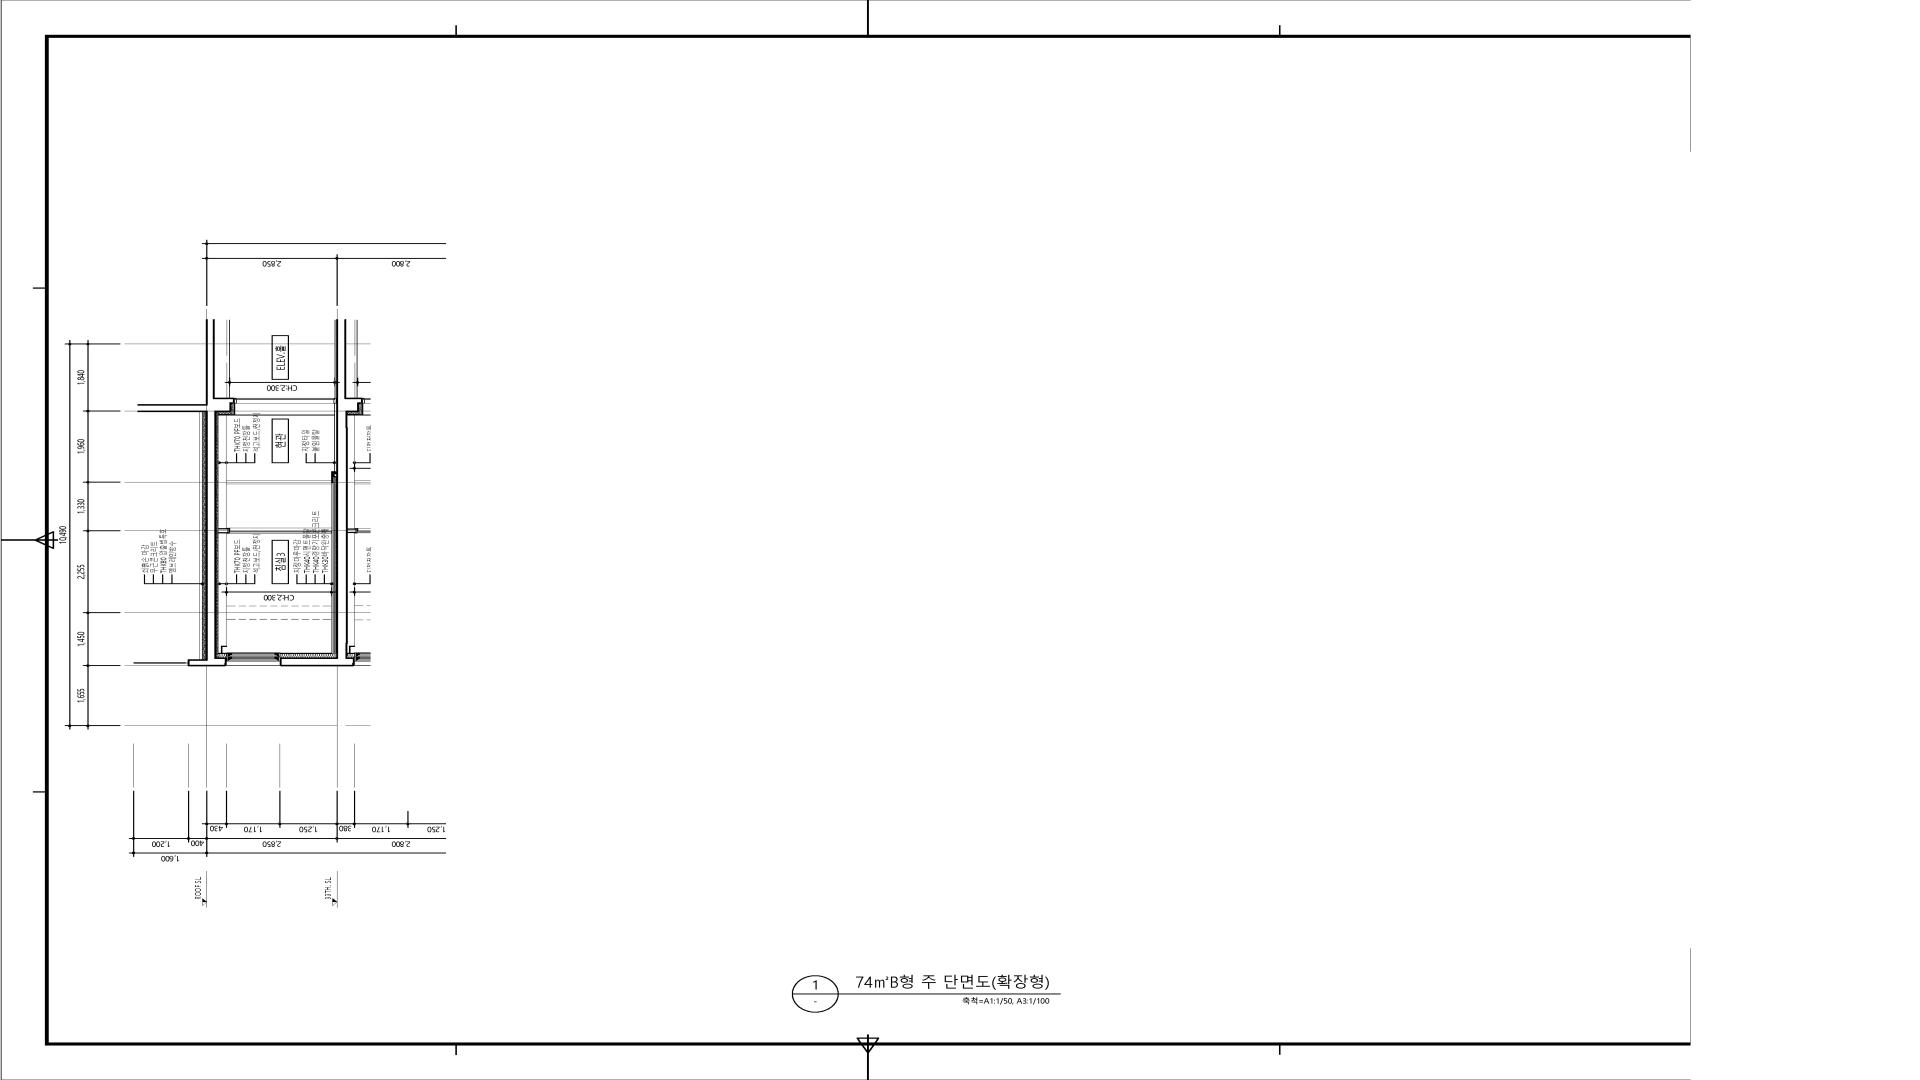background: (0, 0, 1920, 1080)
door: (227, 527, 331, 534), (235, 398, 336, 404)
wall: (281, 319, 348, 666), (206, 319, 235, 666), (218, 527, 227, 533)
window: (227, 653, 281, 666)
